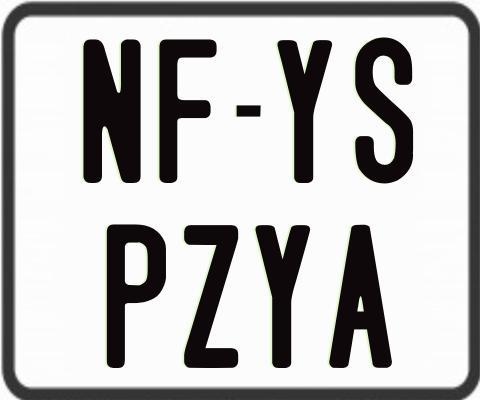A: (328, 223, 392, 368)
F: (157, 36, 218, 181)
N: (82, 36, 140, 185)
P: (106, 221, 165, 368)
S: (352, 36, 413, 187)
Y: (254, 225, 311, 374), (276, 37, 332, 181)
Z: (181, 222, 237, 368)
